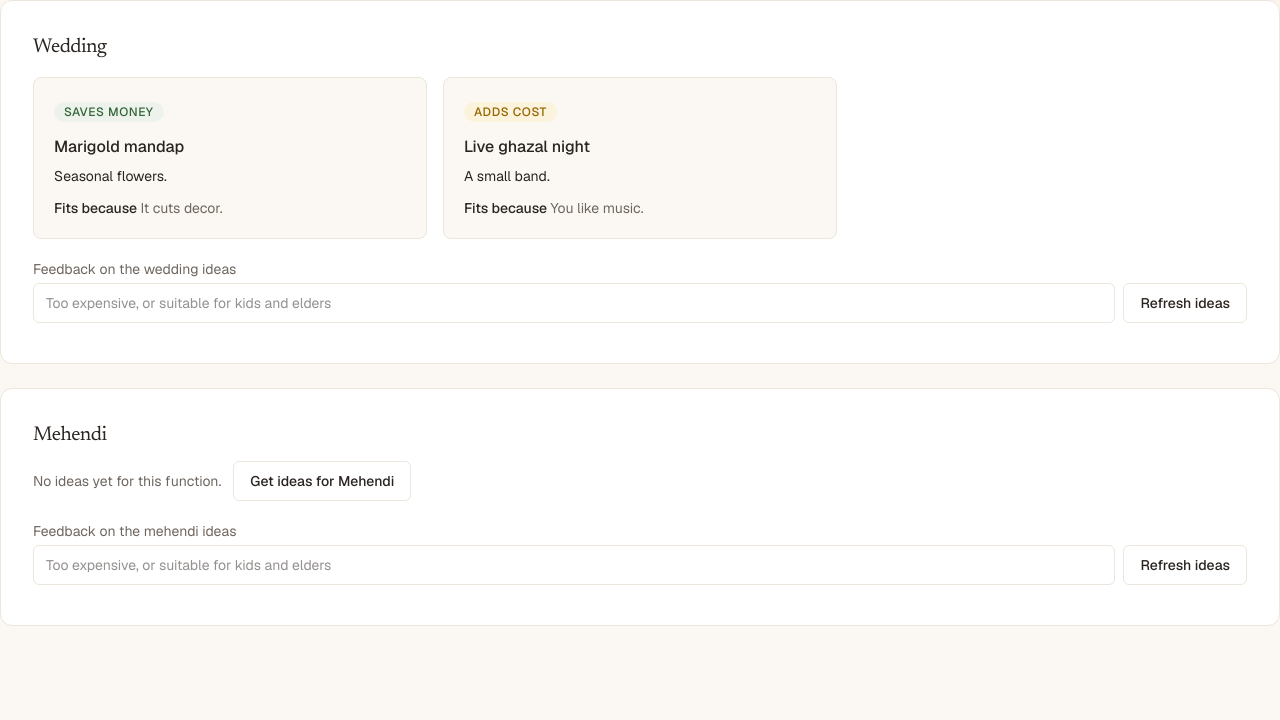
Test: IdeasTab › fetches ideas for a function that has none
Click the button "Get ideas for Mehendi" at (322, 481), box [233,461,411,501]
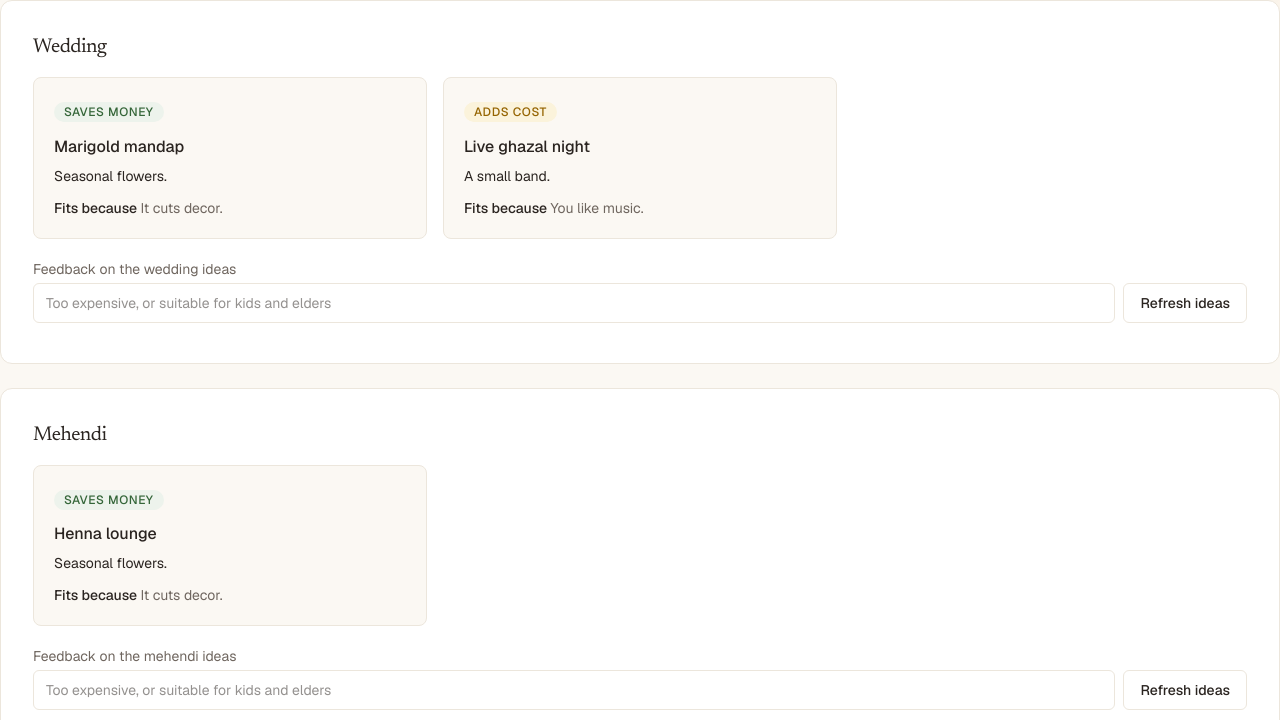
Expected: the heading "Henna lounge" is shown, [54,523,157,544]
